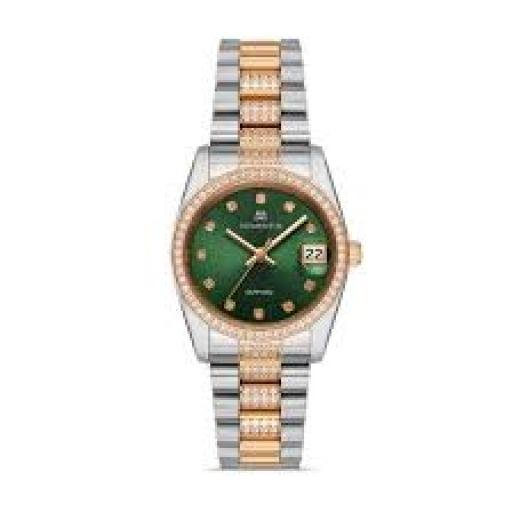KolSaati: (145, 28, 381, 482)
